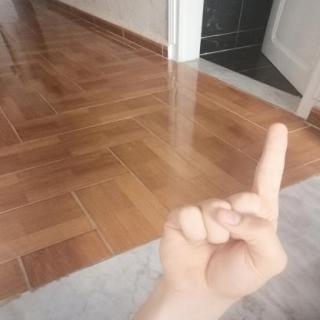BAA: (144, 115, 306, 306)
